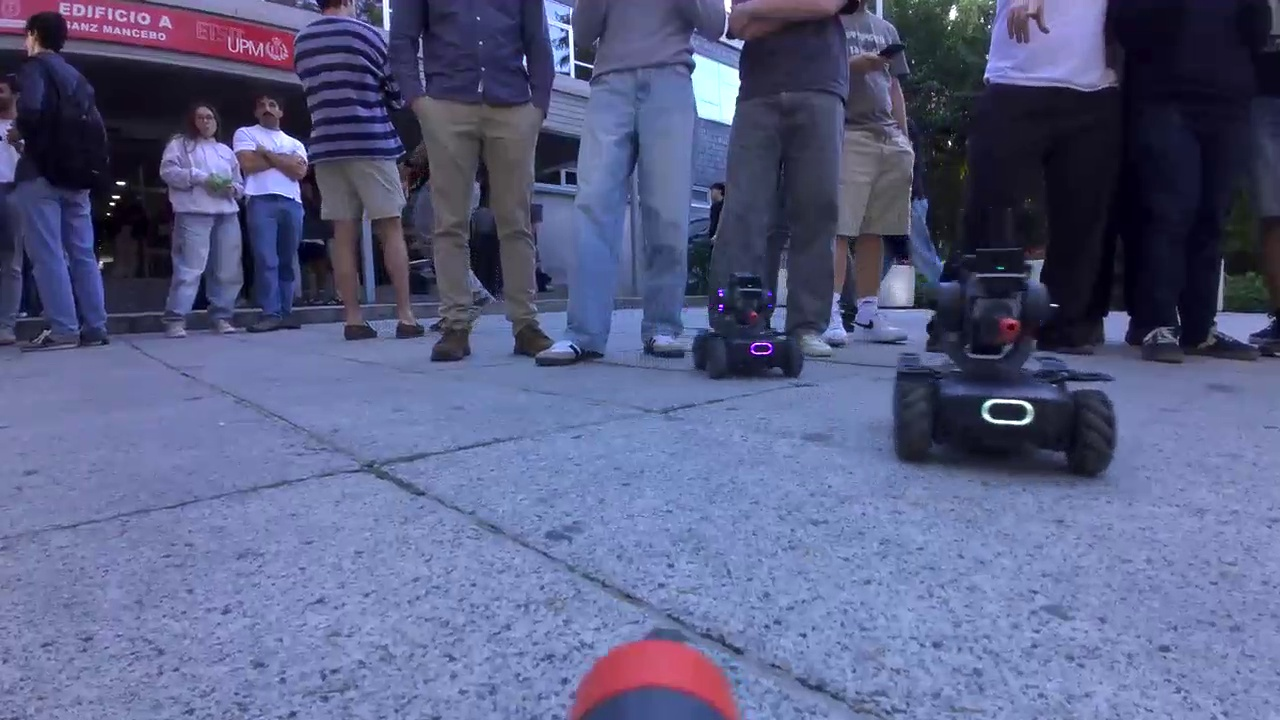robot: (892, 247, 1118, 482), (693, 271, 805, 382)
